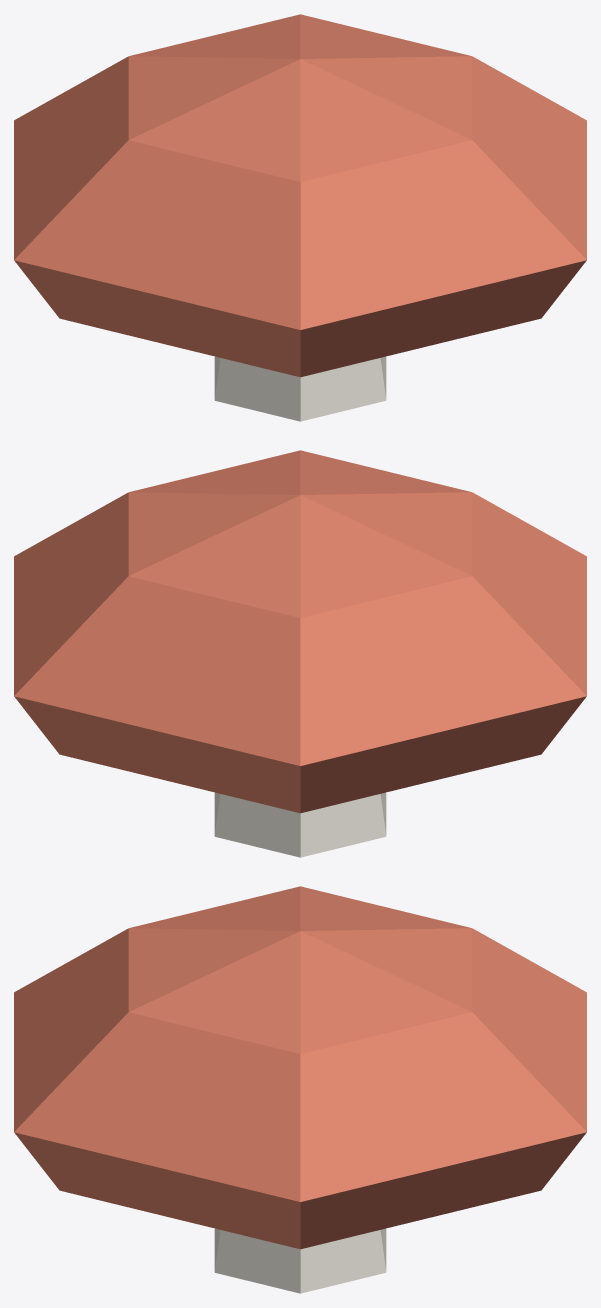
File: Hilly_Prop_Mushroom_2.obj
3 renders of one model, top to bottom at view 1: azimuth 30°, elevation 25°; view 2: azimuth 150°, elevation 25°; view 3: azimuth 270°, elevation 25°, orthographic.
Visible parts, largest first — view 1: object2, object1; view 2: object2, object1; view 3: object2, object1.
Boxes of the visible parts, box(x1,y1,x2,y2) form: object2: box(14, 14, 586, 377); object1: box(214, 356, 386, 421); object2: box(14, 450, 586, 813); object1: box(214, 792, 386, 857); object2: box(14, 886, 586, 1249); object1: box(214, 1228, 386, 1293).
Size of the model in its own units: 0.5 by 0.2674 by 0.433.
